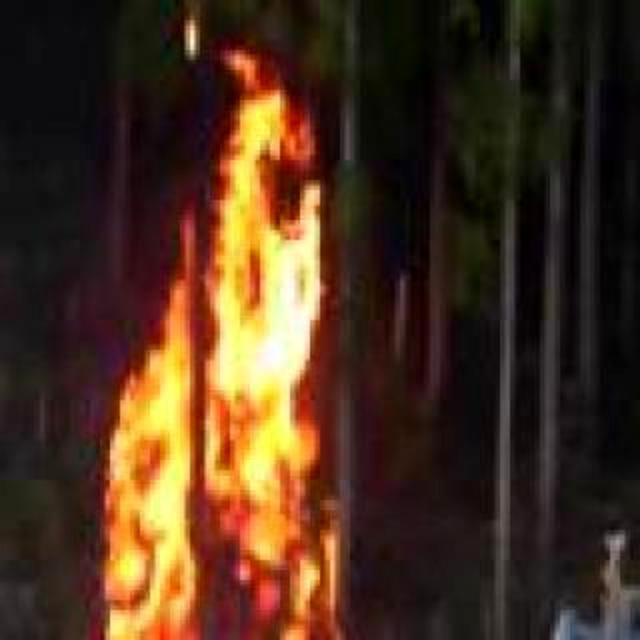fire: (103, 110, 344, 640)
